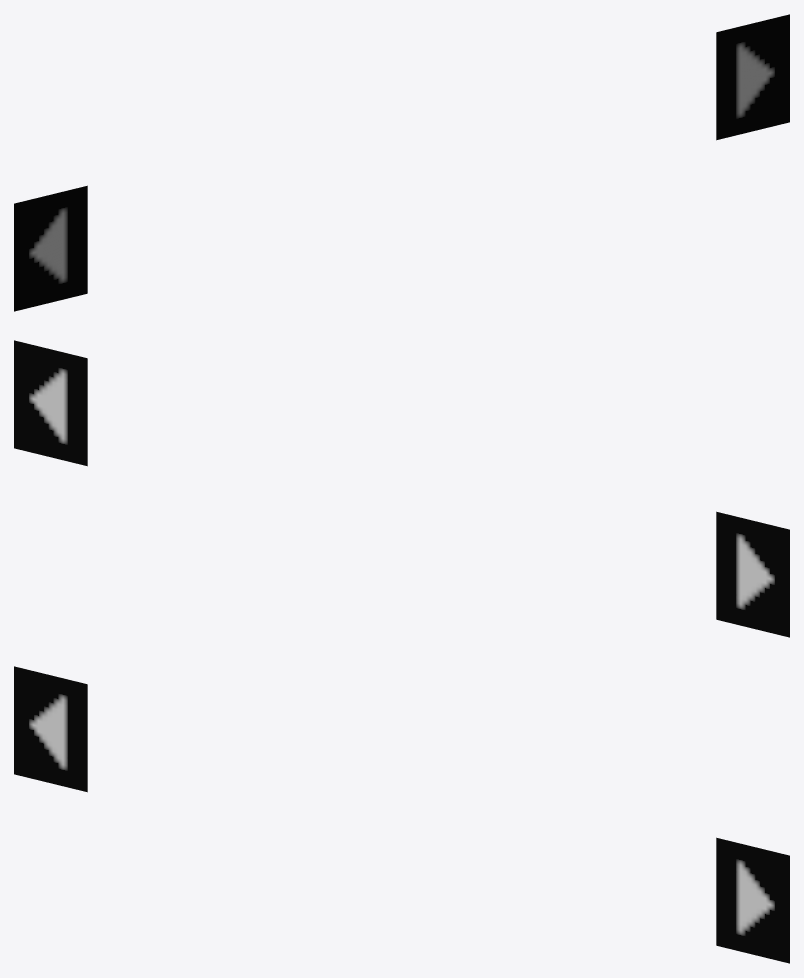
3 renders of one model, top to bottom at view 1: azimuth 30°, elevation 25°; view 2: azimuth 150°, elevation 25°; view 3: azimuth 330°, elevation 25°, orthographic.
Parts seen in each view (by area): view 1: Joint_0_Object_0; view 2: Joint_0_Object_0; view 3: Joint_0_Object_0.
Part boxes in pixels (x1=…): Joint_0_Object_0: x1=14, y1=14, x2=789, y2=311; Joint_0_Object_0: x1=14, y1=340, x2=789, y2=637; Joint_0_Object_0: x1=14, y1=666, x2=789, y2=963.
Bounding box in the file's own units: 74.21 × 9.87 × 0.
1 material, 1 textured.
